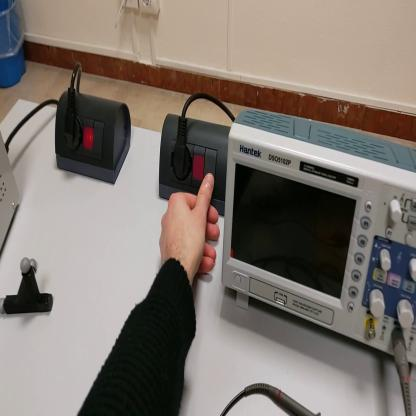hand: (158, 175, 222, 277)
oscilloscope: (220, 111, 416, 374)
power supply: (1, 116, 22, 256)
socket: (54, 92, 134, 187), (159, 115, 231, 219)
